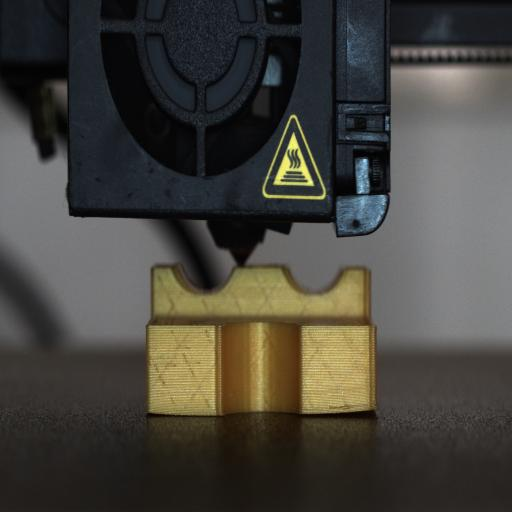warp: (307, 401, 381, 421), (139, 406, 161, 418)
